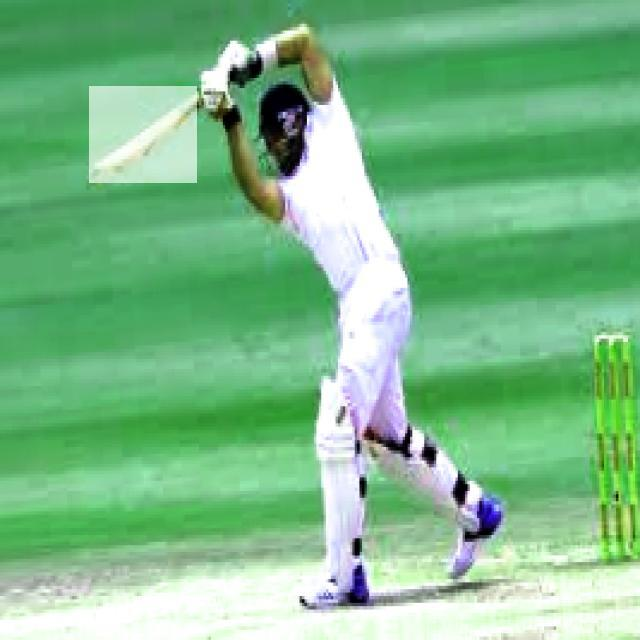bat: (90, 86, 200, 185)
toe: (80, 158, 113, 189)
